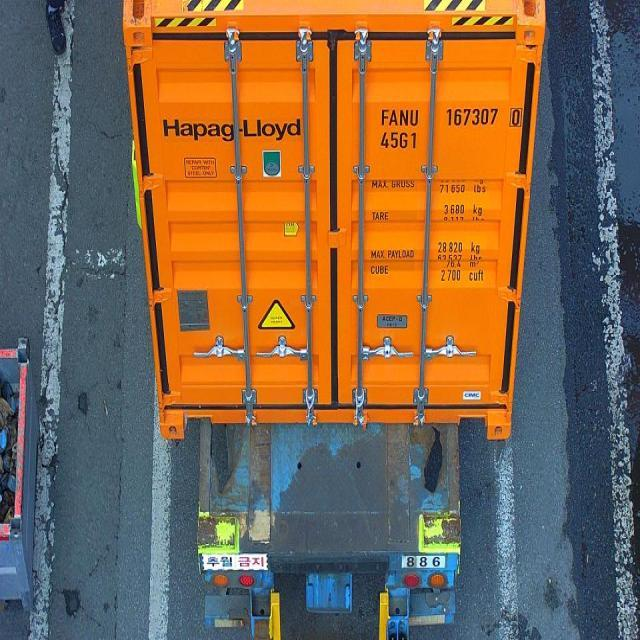ISO: (379, 130, 422, 150)
container_number: (384, 105, 524, 126)
